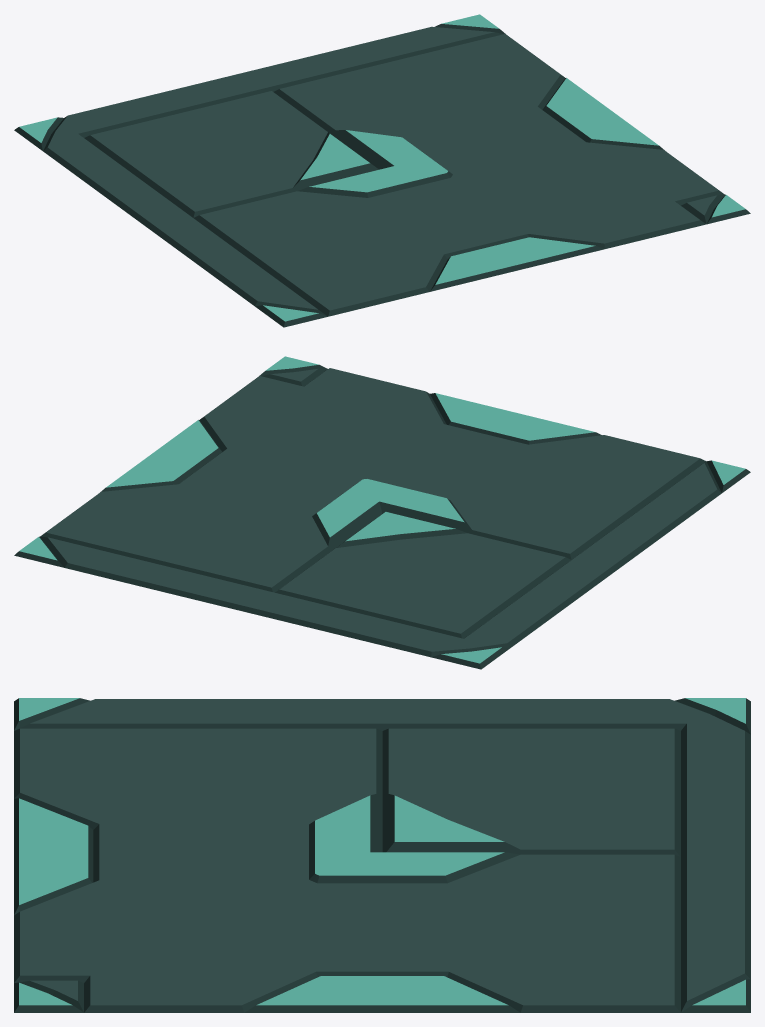
File: Ground_Var05.fbx
3 renders of one model, top to bottom at view 1: azimuth 30°, elevation 25°; view 2: azimuth 150°, elevation 25°; view 3: azimuth 270°, elevation 25°, orthographic. The views are drawn at different scales.
Visible parts, largest first — view 1: Ground_Var05; view 2: Ground_Var05; view 3: Ground_Var05.
Part boxes in pixels (x1,y1,x2,y2): Ground_Var05: (14, 14, 750, 327); Ground_Var05: (14, 356, 750, 669); Ground_Var05: (14, 698, 750, 1012).
Bounding box in the file's own units: 600 × 8.95 × 600.
